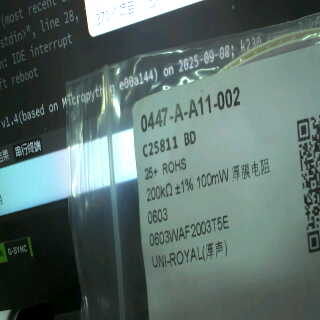200kR: (145, 178, 174, 206)
